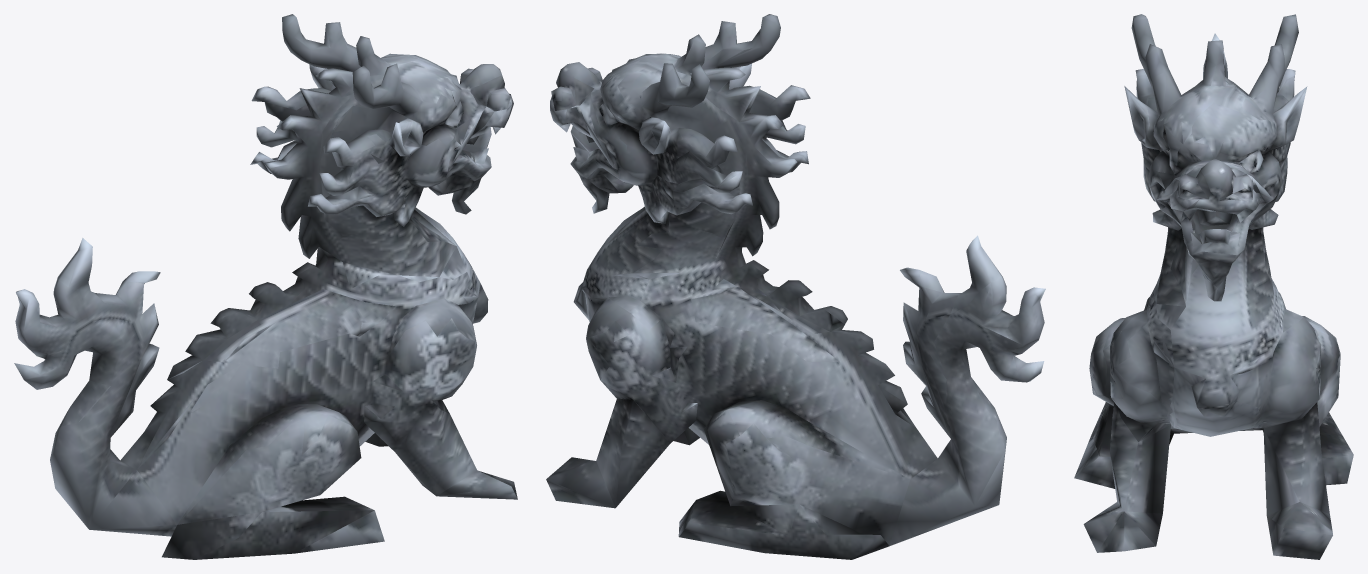
Rendered from zoushou-long.glb.
3 views of the same model, side by side, from view 1: azimuth 30°, elevation 25°; view 2: azimuth 150°, elevation 25°; view 3: azimuth 270°, elevation 25° (orthographic). The views are drawn at different scales.
Visible parts, largest first — view 1: 走兽龙; view 2: 走兽龙; view 3: 走兽龙.
Boxes of the visible parts, <box> form: 走兽龙: <box>14,14,517,559</box>; 走兽龙: <box>546,14,1045,559</box>; 走兽龙: <box>1074,14,1353,559</box>.
Bounding box in the file's own units: 0.3345 × 0.3 × 0.1585.
1 material, 1 textured.
